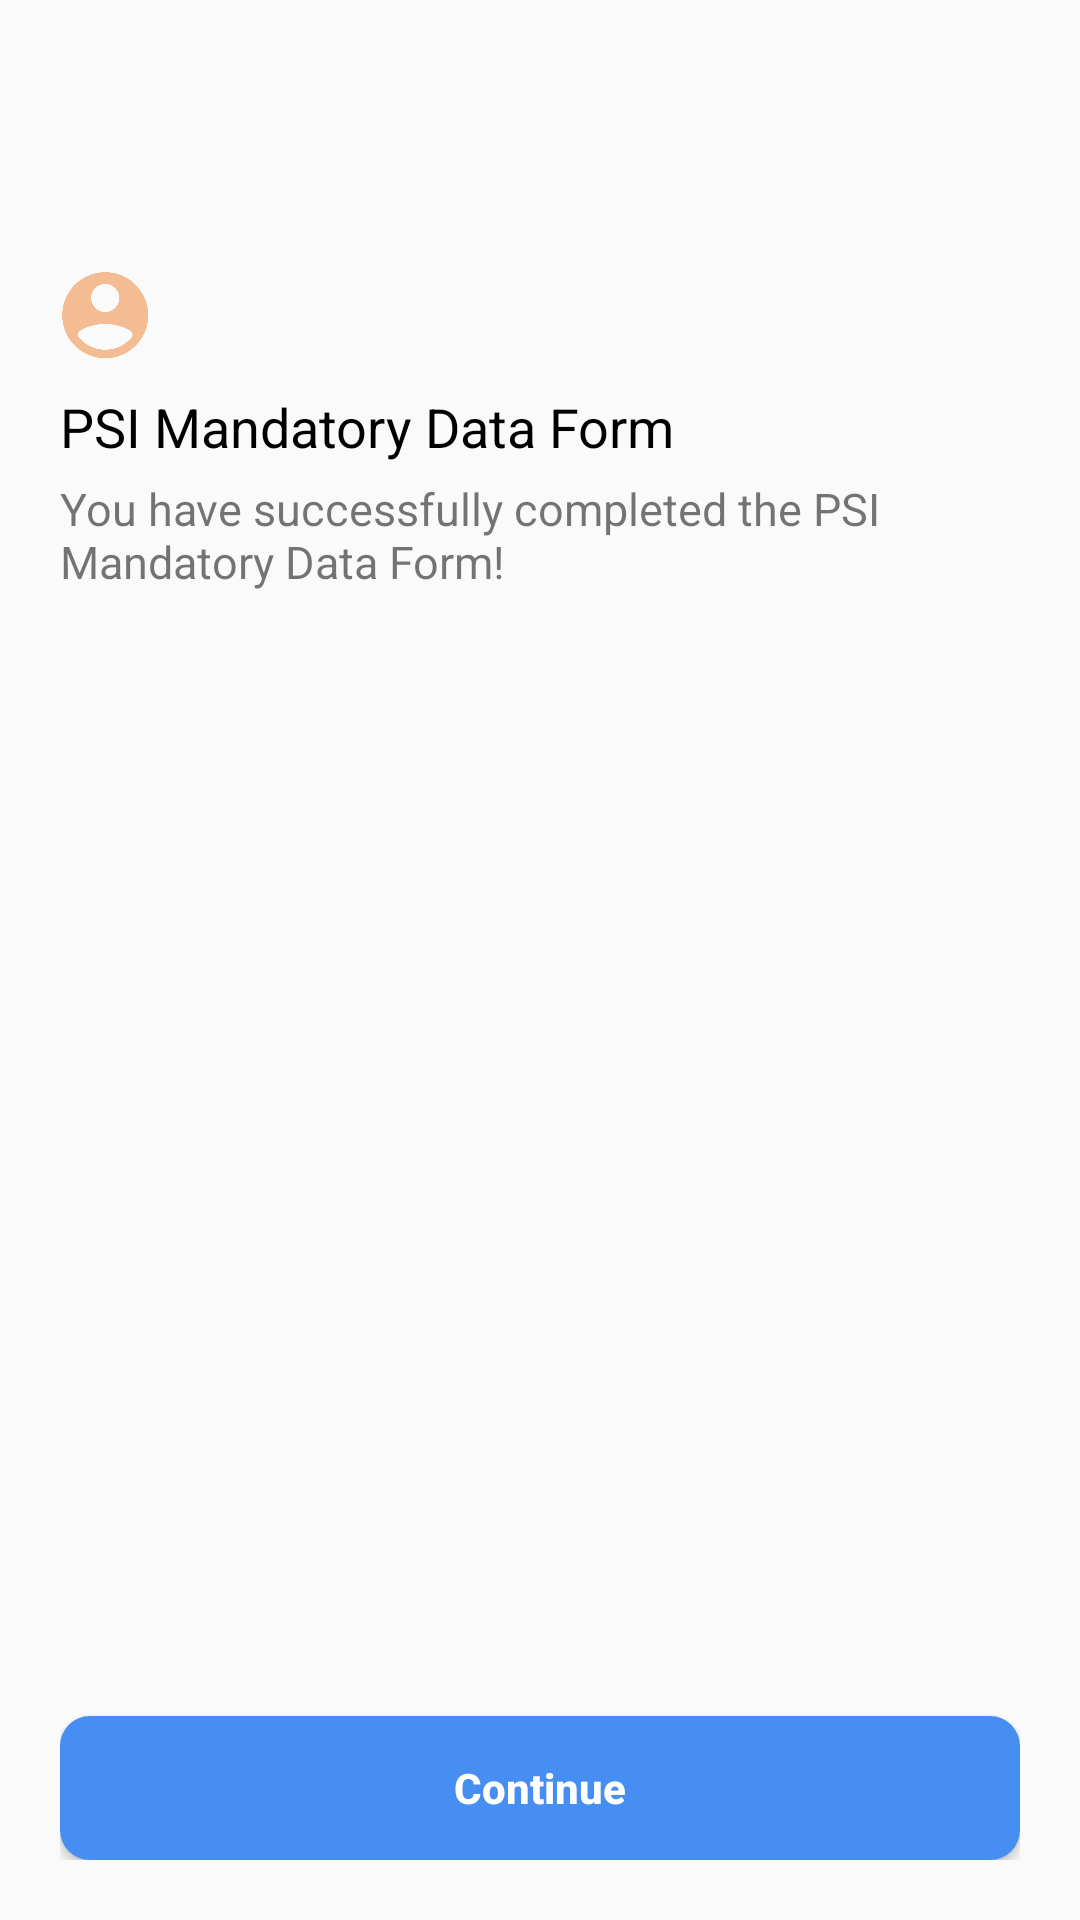

Point at icon controls on the screen. Image size 1080px×1920px, points as [x,y].
user: [105,315]
